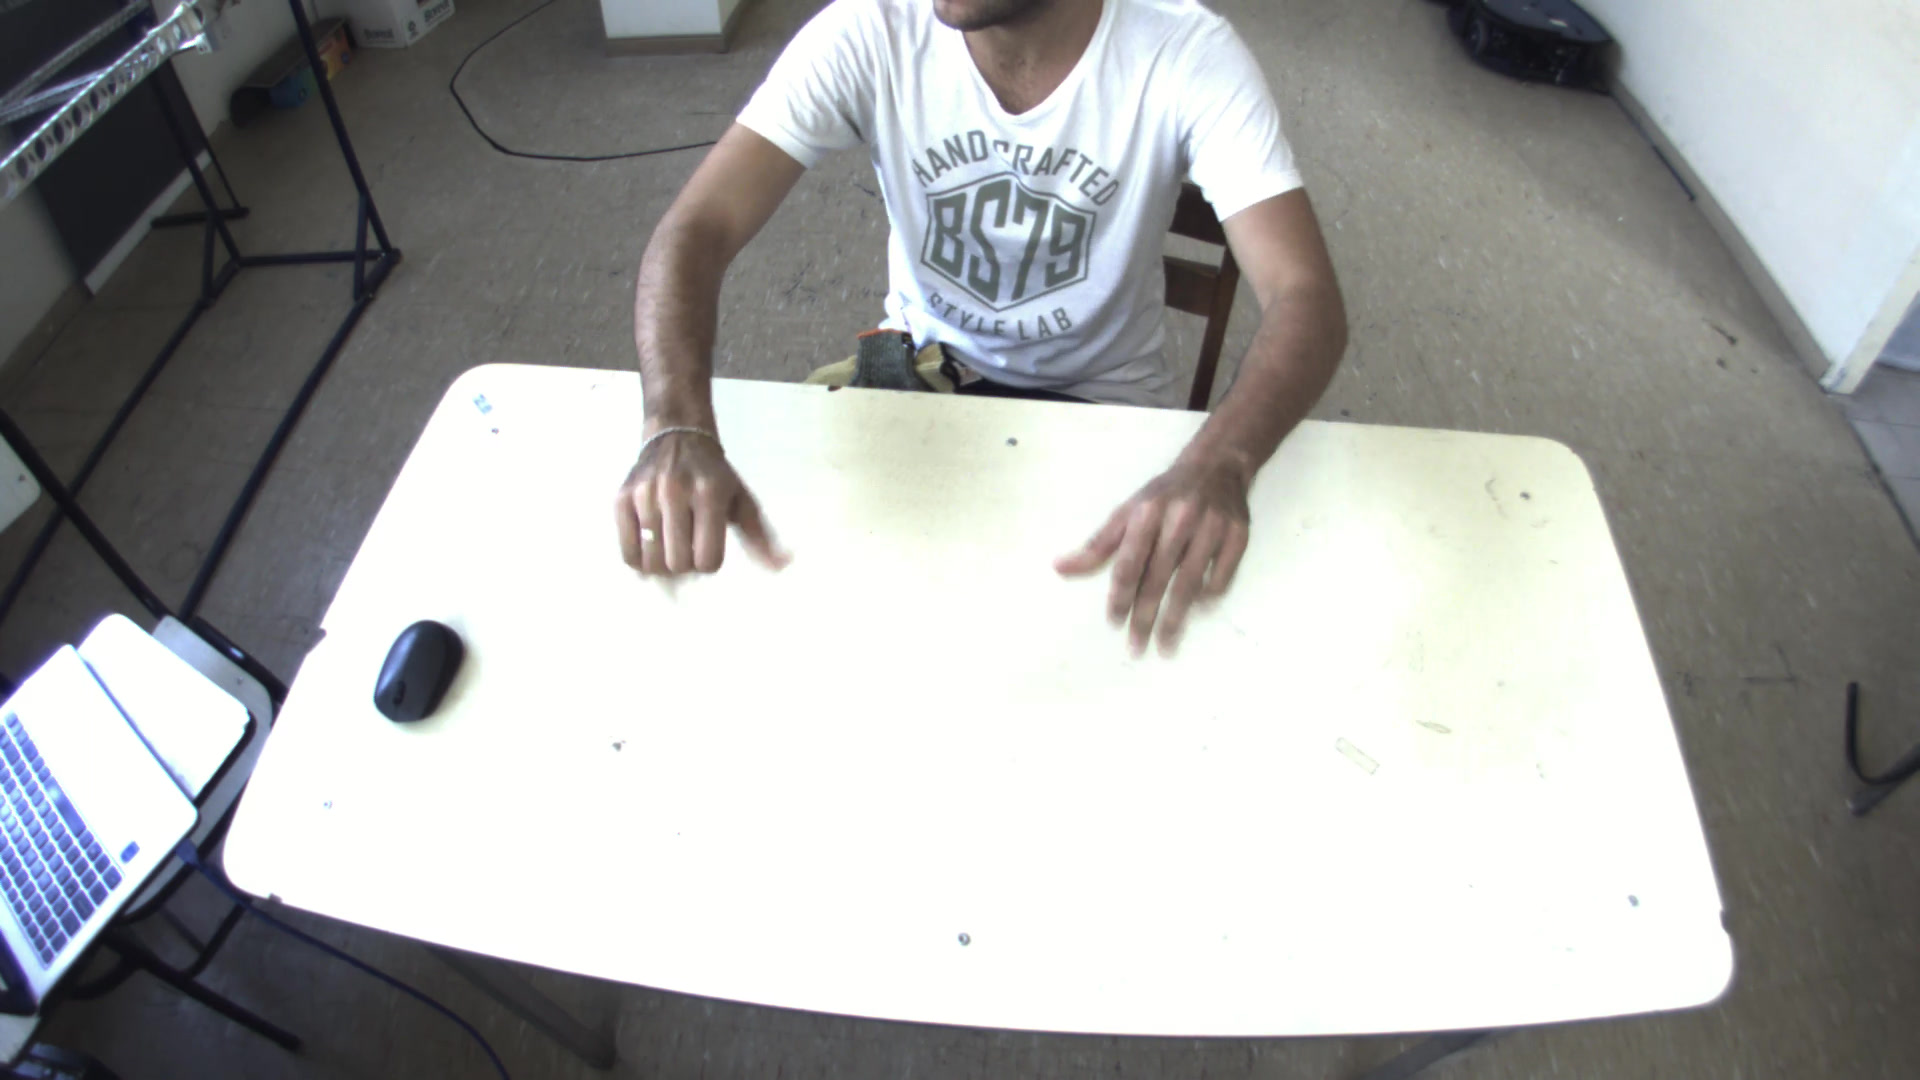hand: (1046, 438, 1269, 667), (597, 401, 795, 583)
